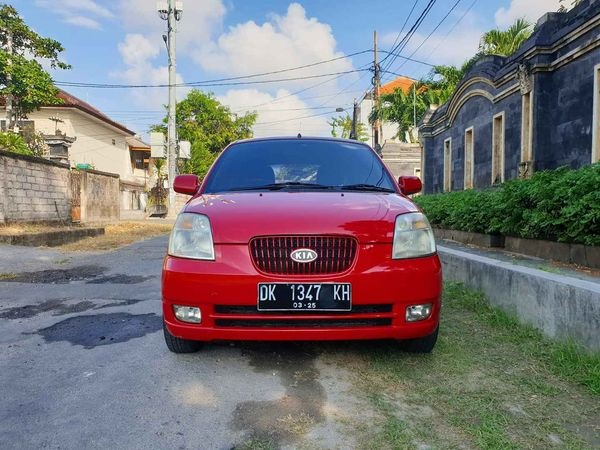plate: (254, 278, 360, 317), (255, 283, 354, 312)
